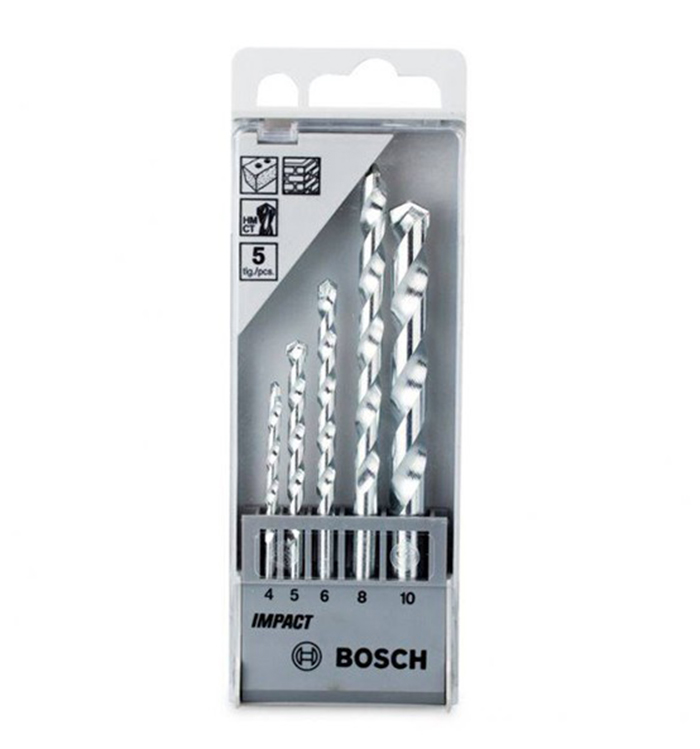Bosch: (331, 641, 435, 678)
